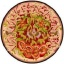pepper: (32, 15, 52, 31), (14, 16, 32, 31)
pizza: (1, 1, 64, 64)
